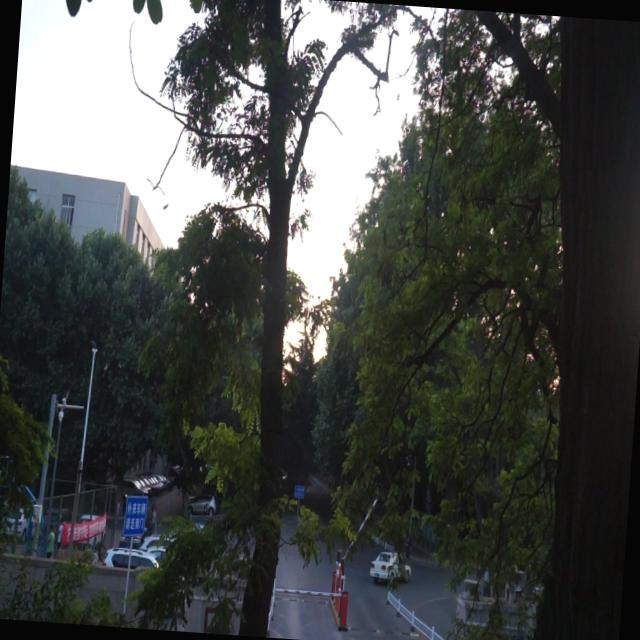drone: (158, 198, 172, 214)
